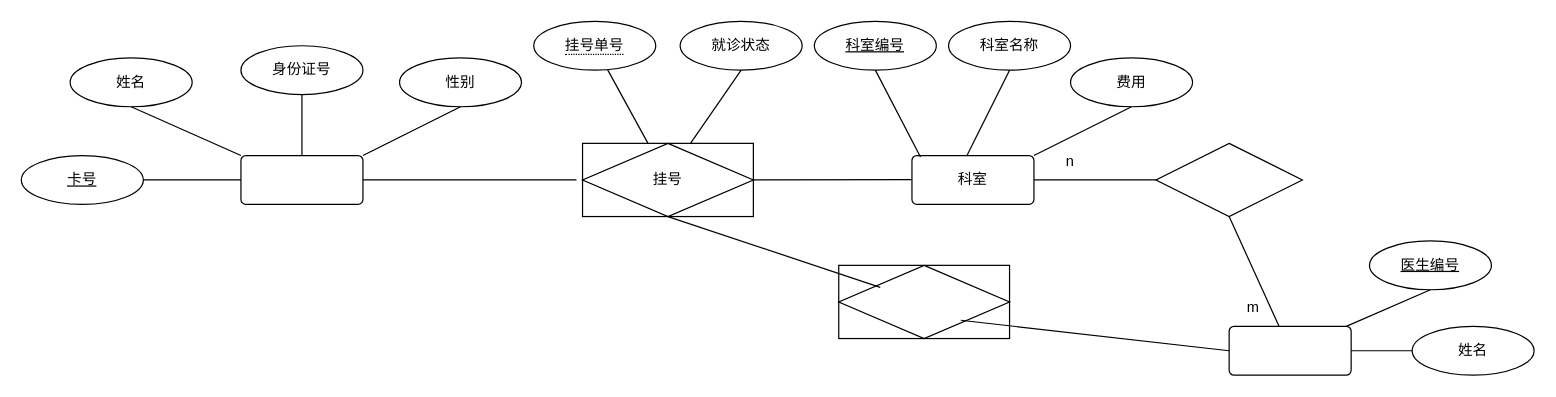
Image size: 1556x397. Some labels were removed from this diagram. Here are the shapes that lost their labels. From the top down, the box of each, then its label:
(240, 154, 363, 204): 病人
(1155, 142, 1302, 217): 属于
(838, 264, 1010, 339): 看病
(1228, 325, 1351, 375): 医生
